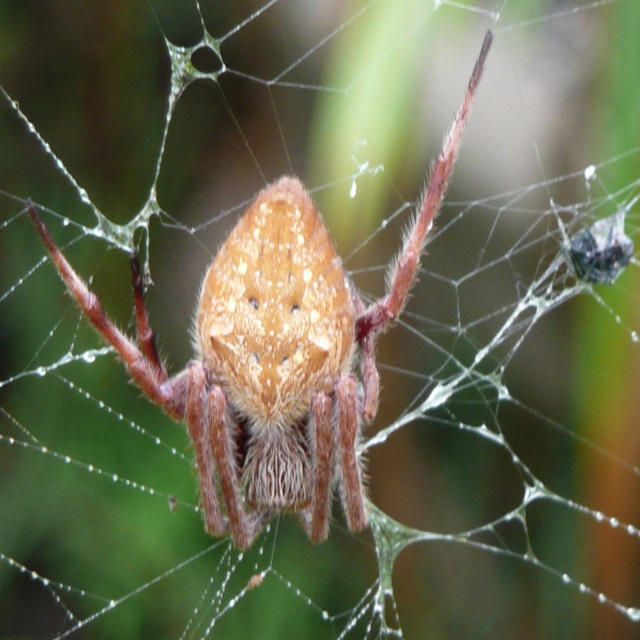Spider: (27, 28, 494, 551)
